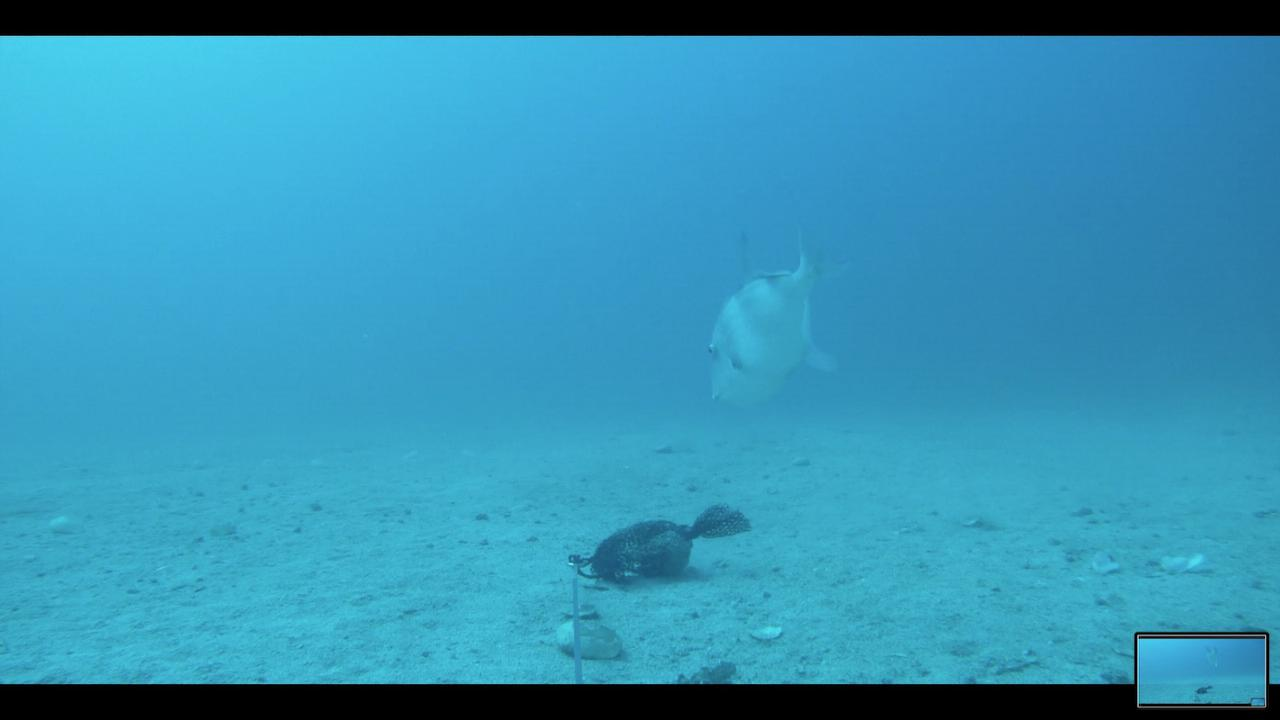balistes: (697, 212, 854, 417)
